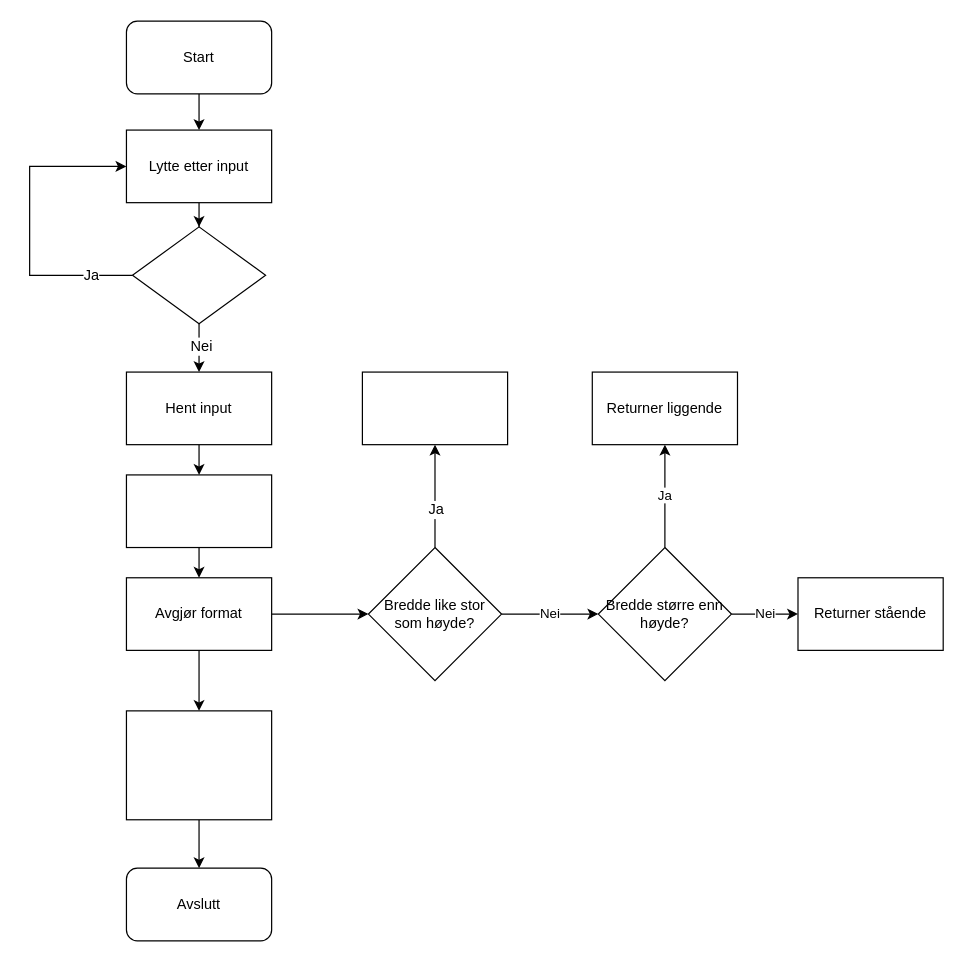
This 964x962 diagram has some shape labels left out. The centre of each missing label's shape, as x and y in pixels:
er input ugyldig?: [198,275]
Kalkuler antall piksler og megapiksler: [198,511]
Returner kvadratisk: [434,408]
Vis antall piksler og megapiksler samt formatet og tilhørende bilde til brukeren: [198,765]
